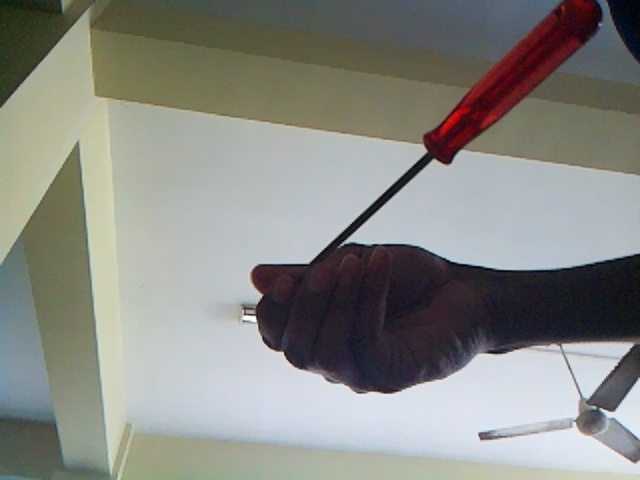redskrew: (290, 1, 607, 278)
